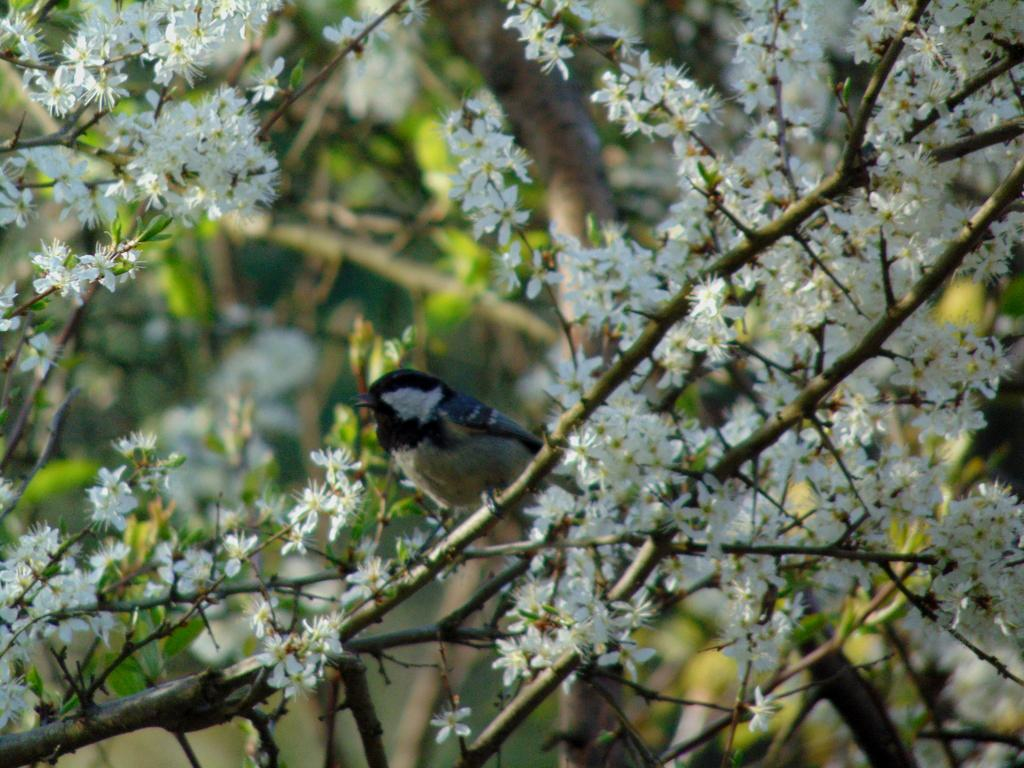PeriparusAter: (350, 368, 544, 520)
